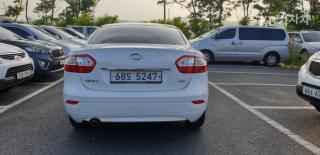2: (141, 71, 147, 81)
4: (147, 72, 153, 81)
5: (136, 71, 141, 81)
6: (115, 71, 121, 80)
7: (152, 71, 158, 81)
8: (120, 71, 126, 80)
도: (126, 71, 133, 81)
